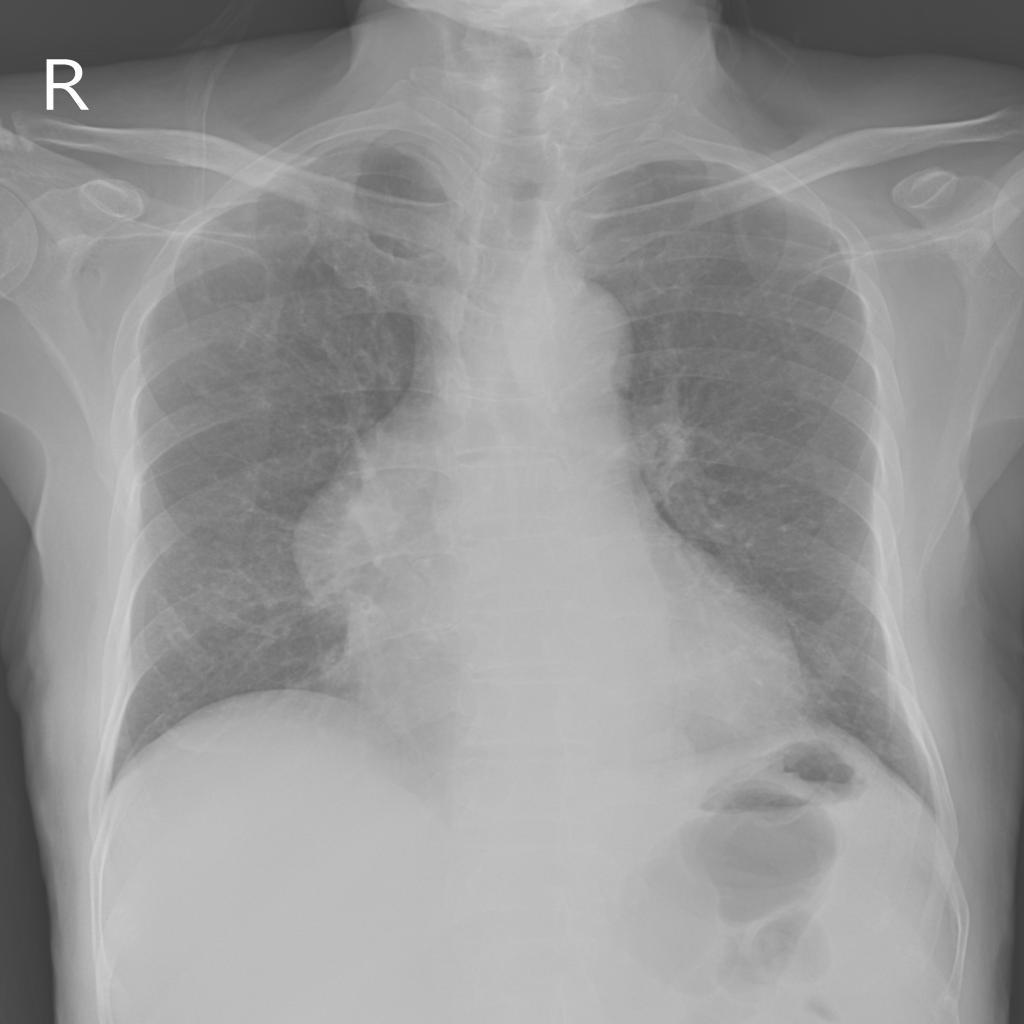Nodule: (293, 482, 464, 632)
